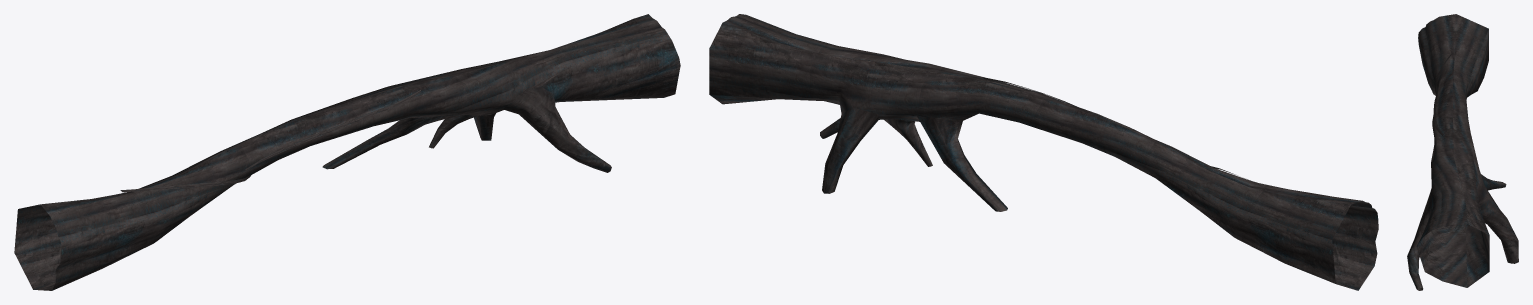
Rendered from trunk001.FBX.
3 views of the same model, side by side, from view 1: azimuth 30°, elevation 25°; view 2: azimuth 150°, elevation 25°; view 3: azimuth 270°, elevation 25° (orthographic). The views are drawn at different scales.
Parts seen in each view (by area): view 1: dcsg_model_03_sg_01; view 2: dcsg_model_03_sg_01; view 3: dcsg_model_03_sg_01.
Part boxes in pixels (x1=…): dcsg_model_03_sg_01: x1=14, y1=14, x2=680, y2=290; dcsg_model_03_sg_01: x1=709, y1=14, x2=1378, y2=290; dcsg_model_03_sg_01: x1=1407, y1=14, x2=1518, y2=290.
Size of the model in its own units: 20.82 by 3.81 by 4.08.
